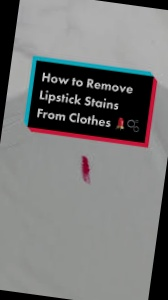lipstick: (74, 148, 98, 185)
